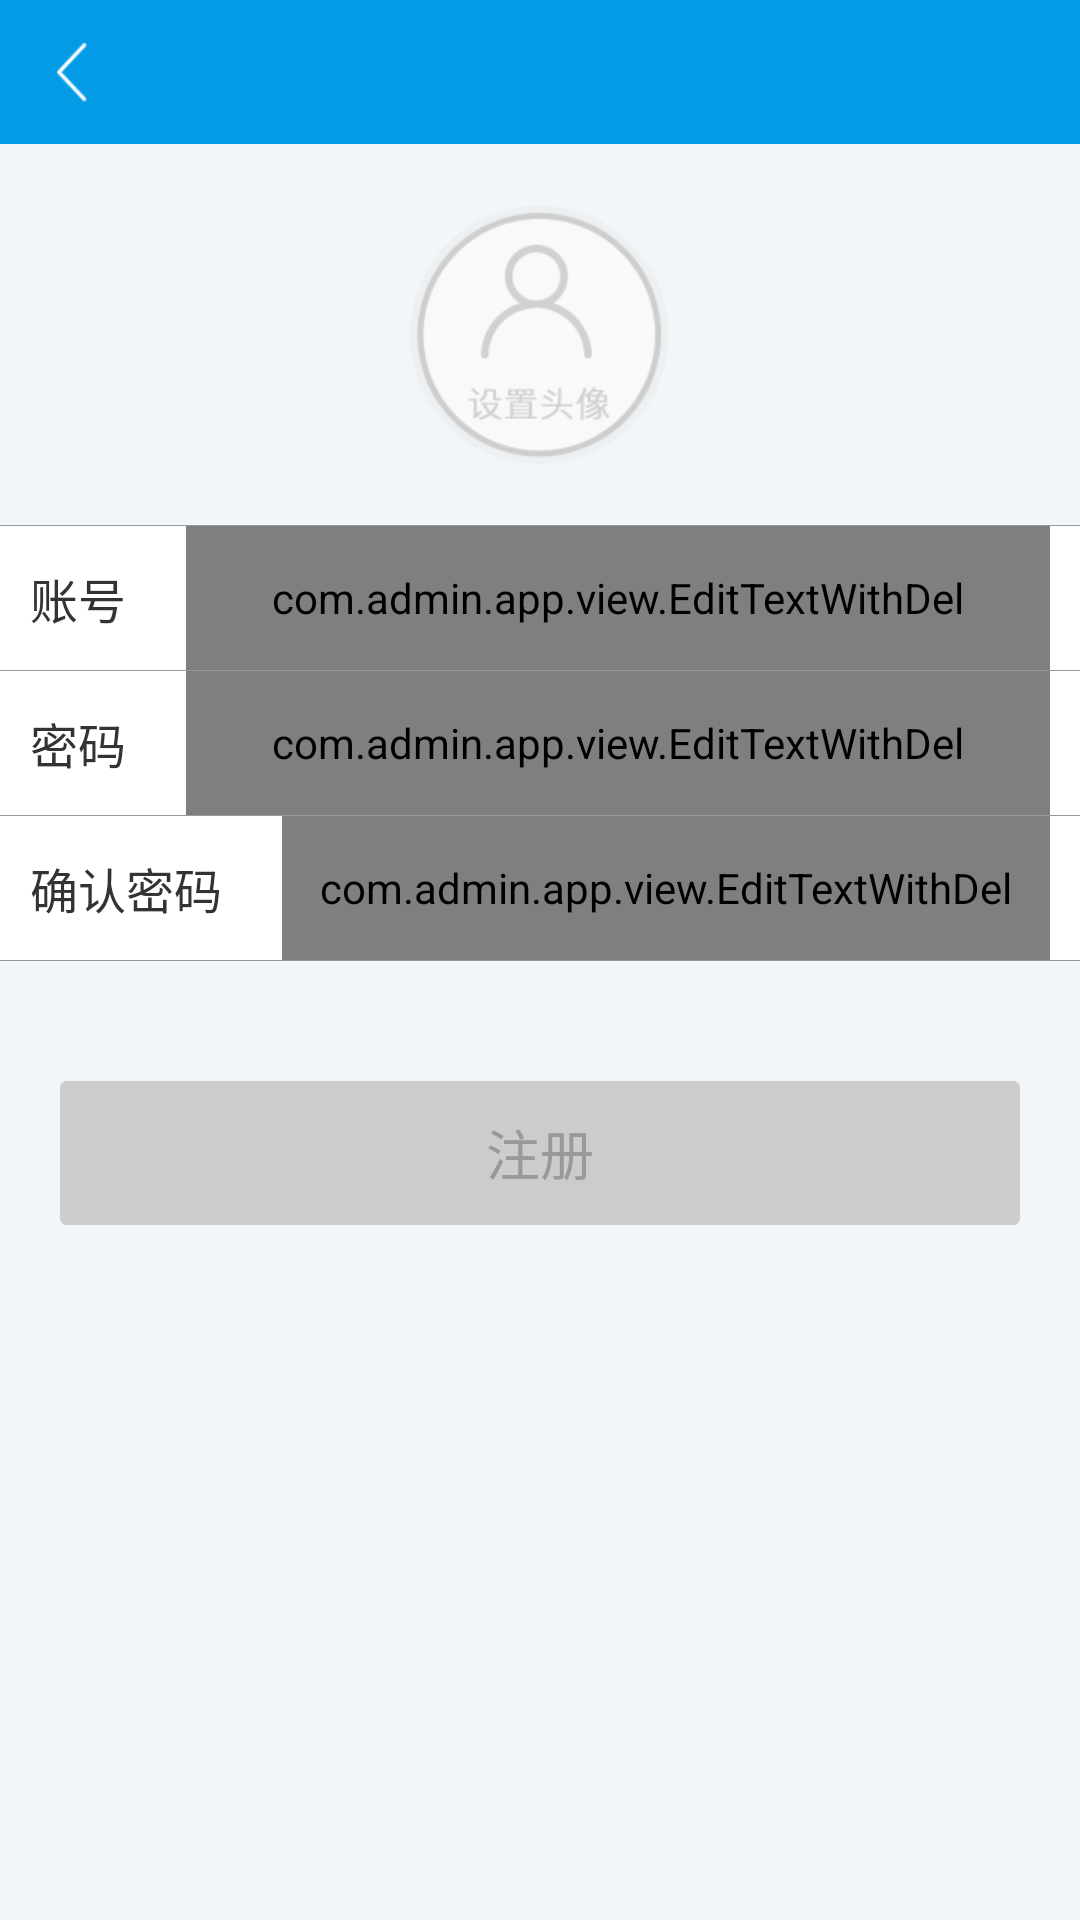

Icons on this 1080w x 1920h Android screen, each with the point to tap as point (x, y):
arrow left: point (72, 72)
